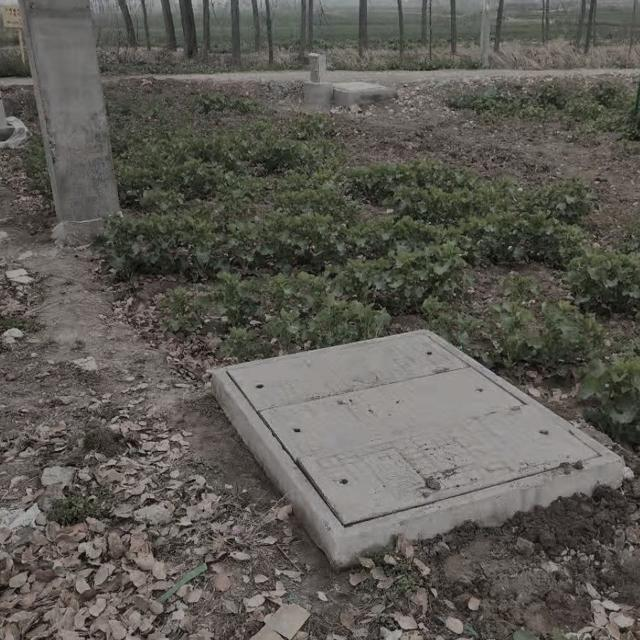good: (217, 315, 632, 537)
